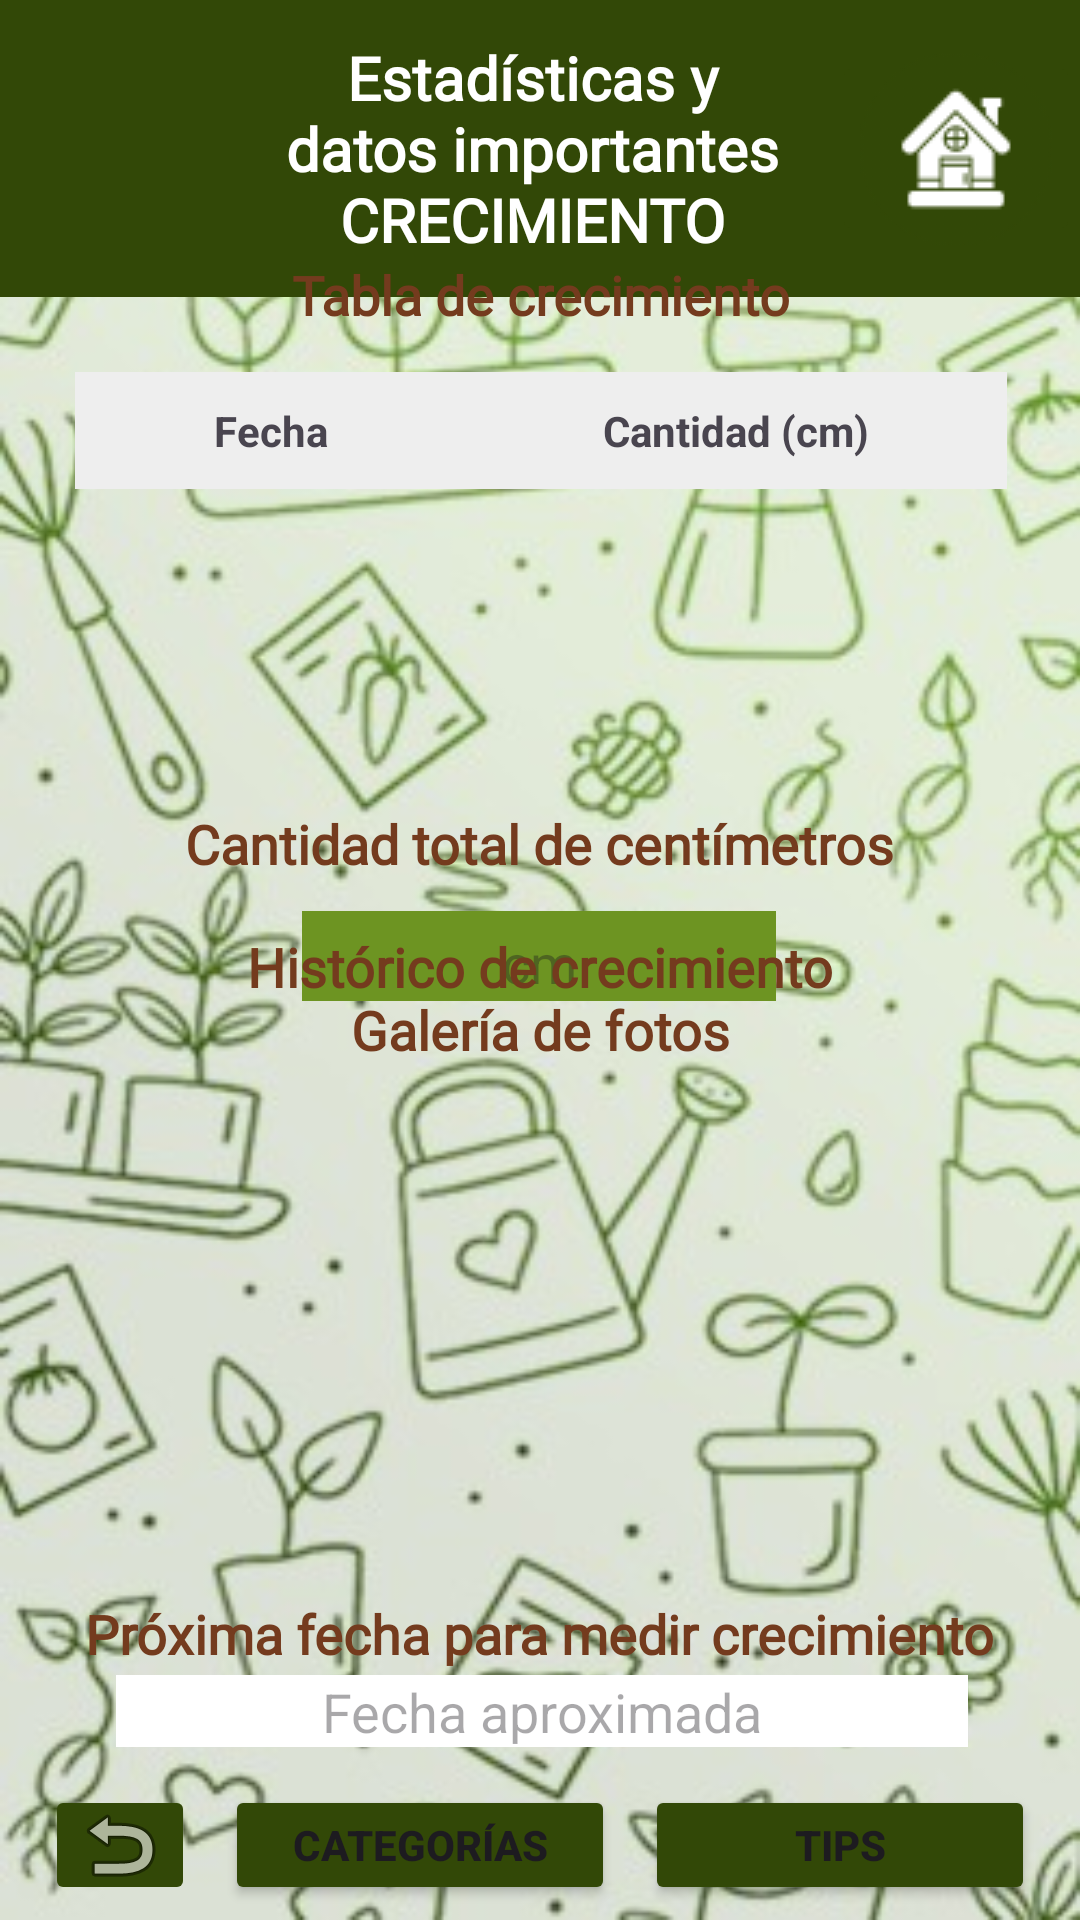

Point at icon controls on the screen. Image size 1080px x 1920px, points as [x,y].
Home: [956,149]
Regresar: [120,1840]
